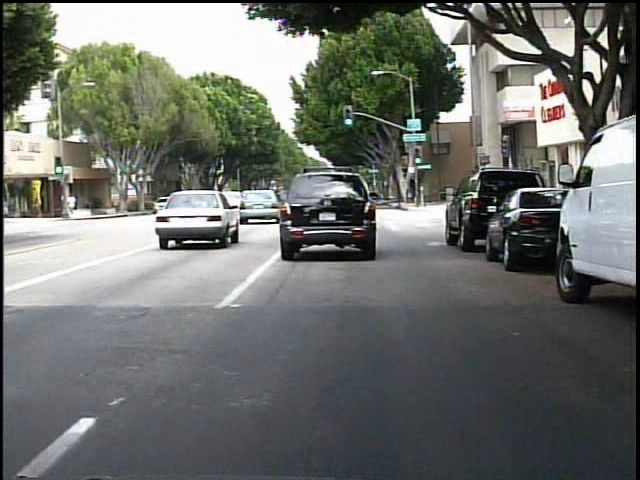person: (70, 191, 80, 219)
